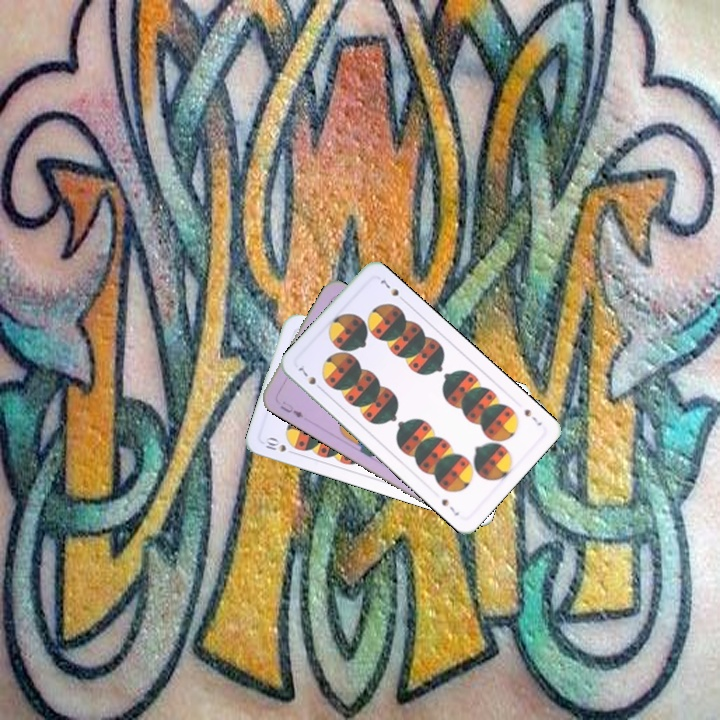EU: (276, 397, 306, 420)
S10: (261, 433, 300, 457)
S7: (294, 363, 326, 394), (520, 405, 545, 428)
